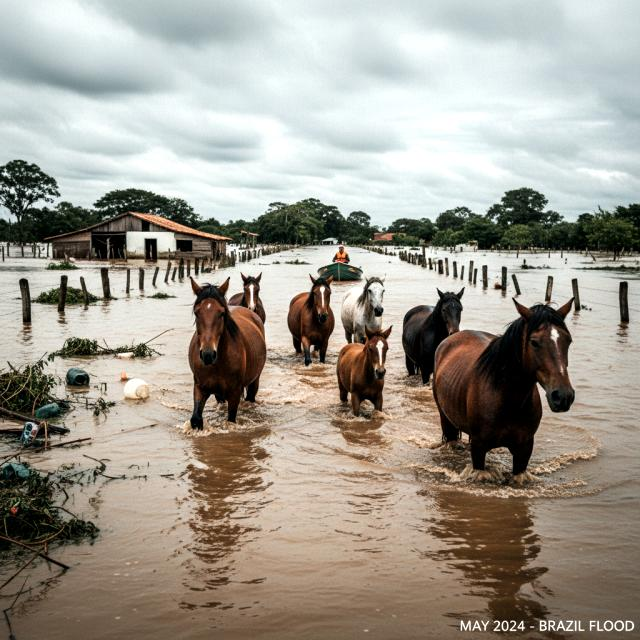civilian: (332, 245, 352, 265)
horse: (433, 297, 591, 479), (179, 275, 267, 428), (401, 284, 472, 374), (327, 320, 393, 416), (280, 272, 336, 368), (335, 274, 401, 342), (223, 260, 271, 332)
